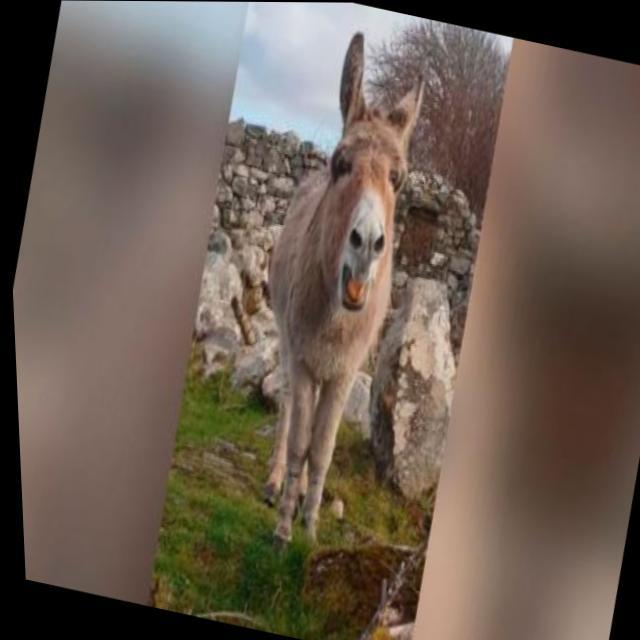Donkey: (203, 21, 448, 560)
